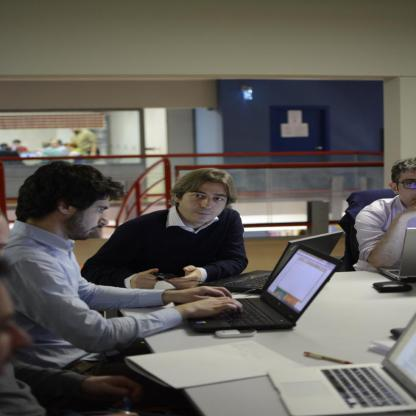board: (266, 312, 416, 416), (186, 244, 340, 331), (198, 231, 342, 294), (376, 228, 416, 282)
